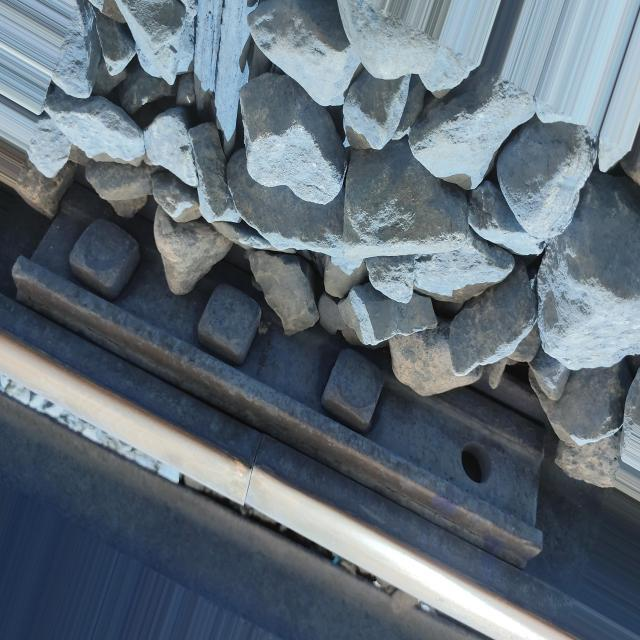Defective Joint: (2, 185, 608, 632)
